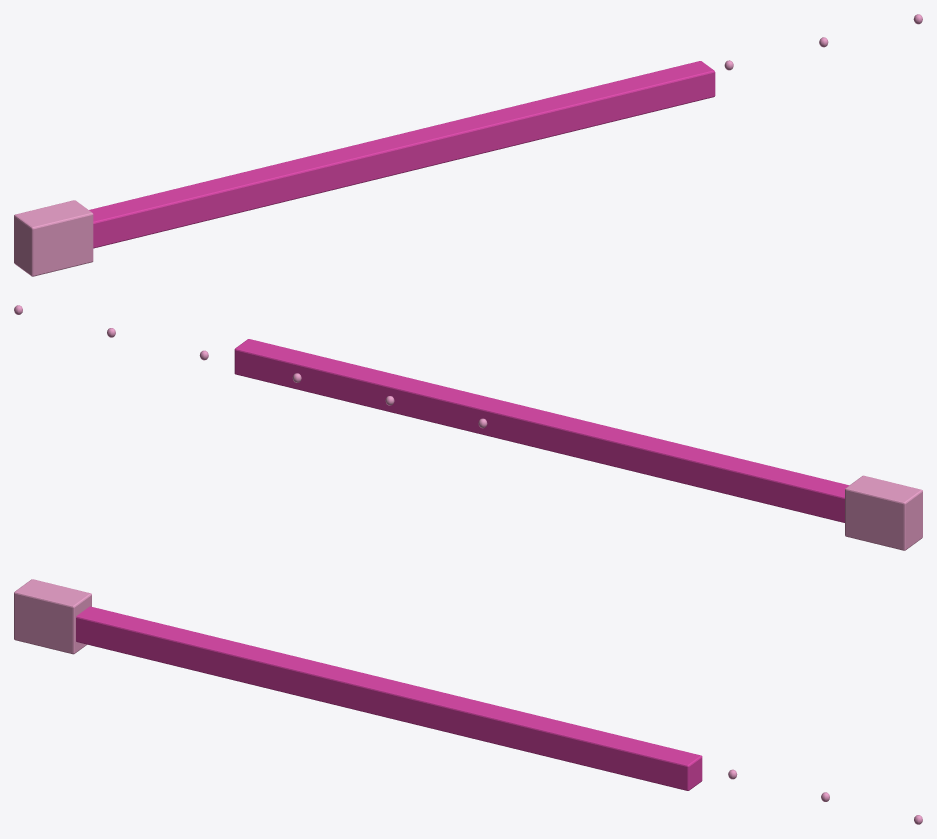
File: VM-ACC-006.glb
The picture shows the model from 3 angles, top to bottom: view 1: azimuth 30°, elevation 25°; view 2: azimuth 150°, elevation 25°; view 3: azimuth 330°, elevation 25°; orthographic projection.
Visible parts, largest first — view 1: Cinturón Cuero Magenta; view 2: Cinturón Cuero Magenta; view 3: Cinturón Cuero Magenta.
Part boxes in pixels (x1,y1,x2,y2): Cinturón Cuero Magenta: [14, 14, 922, 276]; Cinturón Cuero Magenta: [14, 305, 922, 550]; Cinturón Cuero Magenta: [14, 579, 922, 824].
Size of the model in its own units: 1.23 by 0.0643 by 0.0475.
